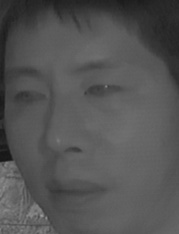eye: (80, 78, 125, 103), (9, 86, 48, 110)
mouth: (41, 167, 106, 209)
